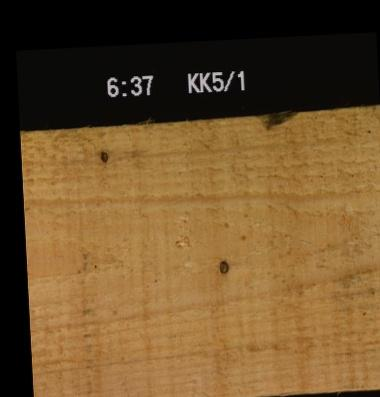dry_knot: (216, 259, 228, 273), (97, 148, 107, 162)
